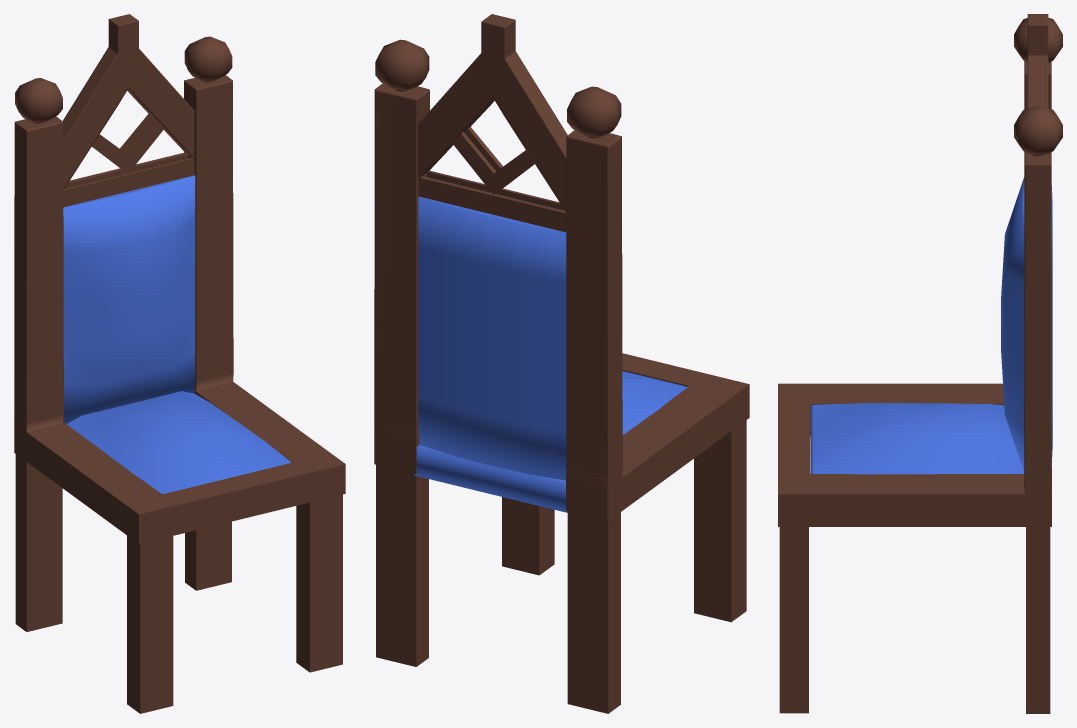
Rendered from Silla_profesor_aula.fbx.
3 views of the same model, side by side, from view 1: azimuth 30°, elevation 25°; view 2: azimuth 150°, elevation 25°; view 3: azimuth 270°, elevation 25° (orthographic). The views are drawn at different scales.
Visible parts, largest first — view 1: Cube.016; view 2: Cube.016; view 3: Cube.016.
Boxes of the visible parts, left/top/right/bottom form: Cube.016: left=14, top=14, right=345, bottom=713; Cube.016: left=374, top=14, right=749, bottom=713; Cube.016: left=778, top=14, right=1062, bottom=713.
Size of the model in its own units: 73.49 by 195 by 78.58.
